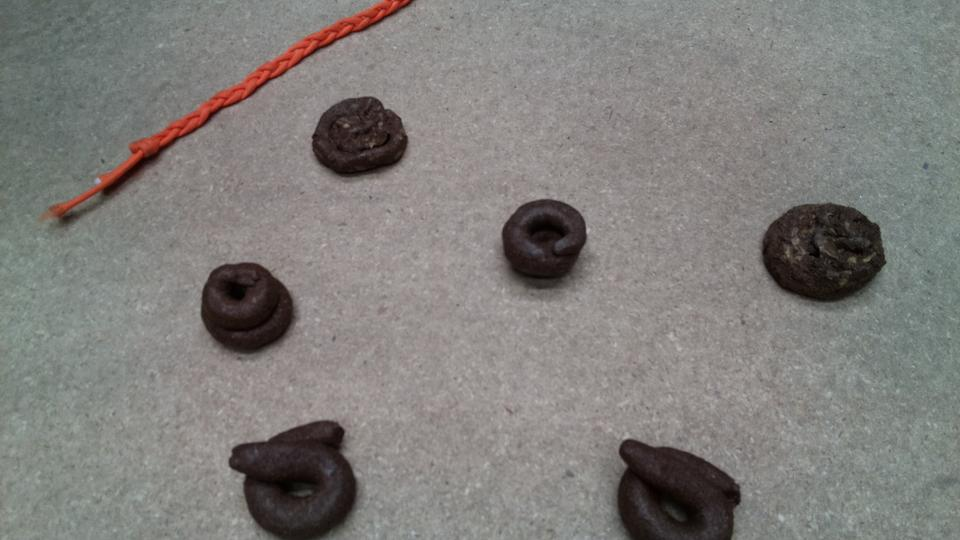poop: (226, 411, 363, 540), (614, 433, 748, 540), (759, 199, 890, 305), (195, 260, 298, 355), (310, 93, 411, 179), (500, 196, 591, 283)
rope: (52, 1, 411, 219)
